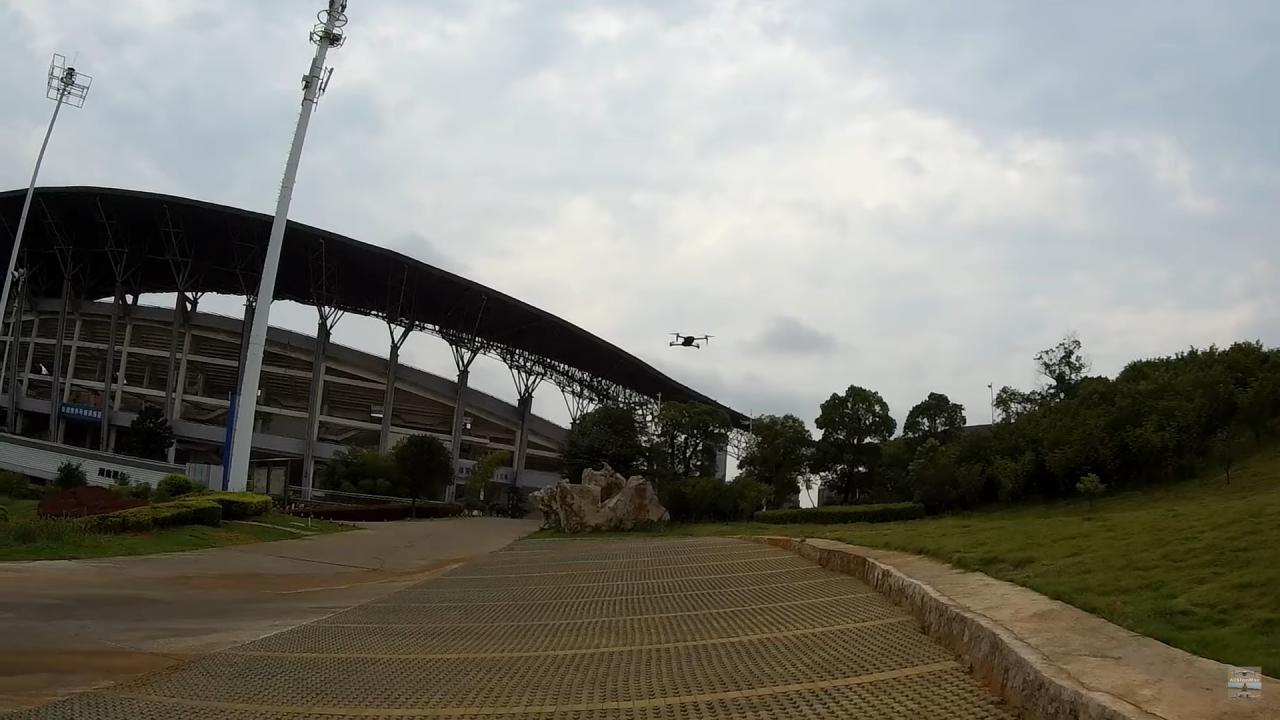Drone: (659, 324, 714, 358)
